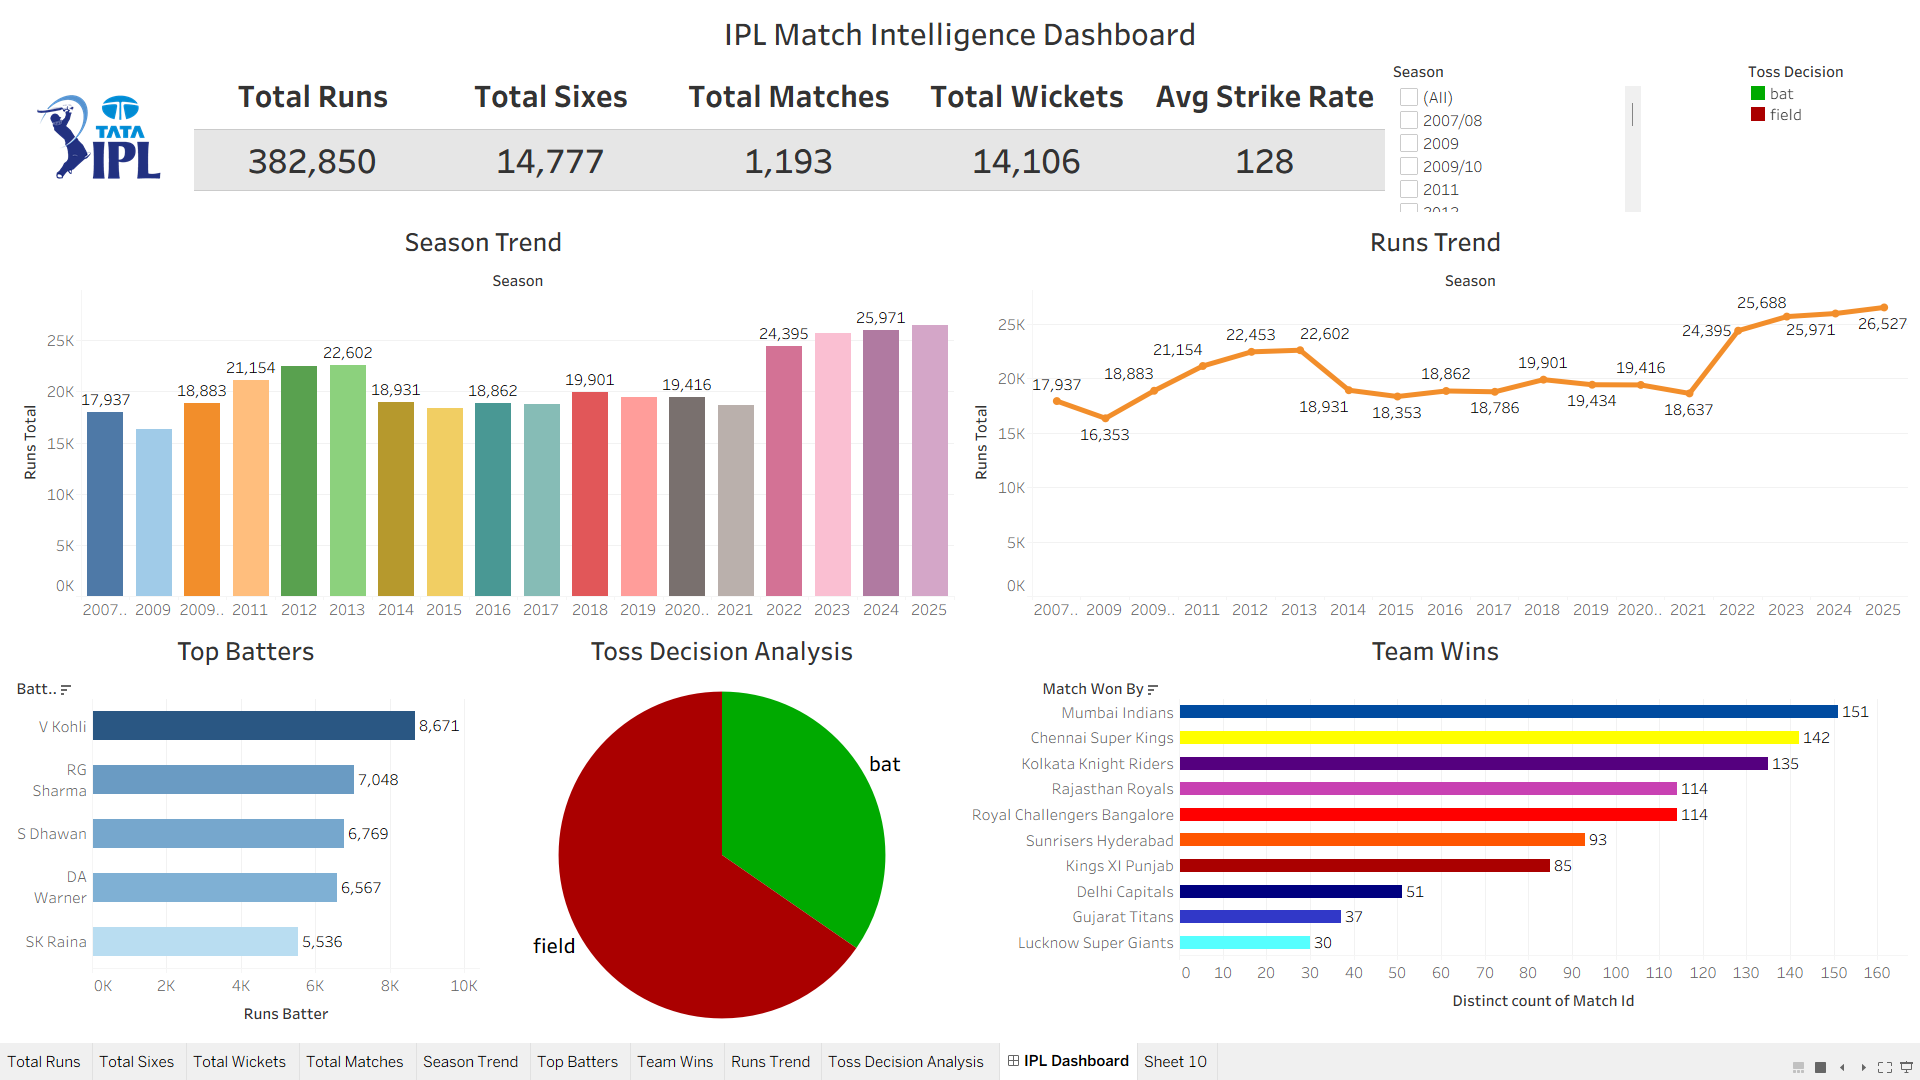

The dashboard page shown, as its layout file describes it:
{"tool":"tableau","page":{"name":"IPL Dashboard","canvas":[1000,1000],"units":"permille","ordinal":0},"visuals":[{"type":"title","box":[4.9,9.4,990.2,57.6]},{"type":"image","param":"C:/Users/SHIVA/Downloads/IPL-sponsorship-Logo-2022.png","box":[4.9,67,111.2,186.8]},{"type":"worksheet","title":"Sheet 10","mark":"Automatic","box":[116.1,67,683.6,162.2]},{"type":"filter","title":"Runs Trend","param":"[federated.1eltiu113nf7jf1b5q4vj1bb4u8l].[none:season:nk]","box":[799.6,67,156.4,186.8]},{"type":"blank","box":[956,67,19.6,186.8]},{"type":"legend","title":"Toss Decision Analysis","param":"[federated.1eltiu113nf7jf1b5q4vj1bb4u8l].[none:toss_decision:nk]","box":[975.6,67,19.6,186.8]},{"type":"worksheet","title":"Season Trend","mark":"Automatic","rows":["runs_total"],"cols":["season"],"box":[4.9,253.8,494.7,367.8]},{"type":"worksheet","title":"Runs Trend","mark":"Line","rows":["runs_total"],"cols":["season"],"box":[499.6,253.8,495.5,367.8]},{"type":"worksheet","title":"Top Batters","mark":"Automatic","rows":["batter"],"cols":["runs_batter"],"box":[4.9,621.7,247.3,368.9]},{"type":"worksheet","title":"Toss Decision Analysis","mark":"Pie","box":[252.2,621.7,247.4,368.9]},{"type":"worksheet","title":"Team Wins","mark":"Automatic","rows":["match_won_by"],"cols":["match_id"],"box":[499.6,621.7,495.5,368.9]}]}

Visuals, with their boxes on the dashboard's canvas, which has no fixed pixel size, in thousandths of its width and height (x1, y1, x2, y2). These are canvas units, not pixel positions in the 1920x1080 screenshot, which may show the page scaled, cropped or inside an application window:
title: 5 9 995 67
image: 5 67 116 254
"Sheet 10" worksheet: 116 67 800 229
"Runs Trend" filter: 800 67 956 254
blank: 956 67 976 254
"Toss Decision Analysis" legend: 976 67 995 254
"Season Trend" worksheet: 5 254 500 622
"Runs Trend" worksheet (Line marks): 500 254 995 622
"Top Batters" worksheet: 5 622 252 991
"Toss Decision Analysis" worksheet (Pie marks): 252 622 500 991
"Team Wins" worksheet: 500 622 995 991
